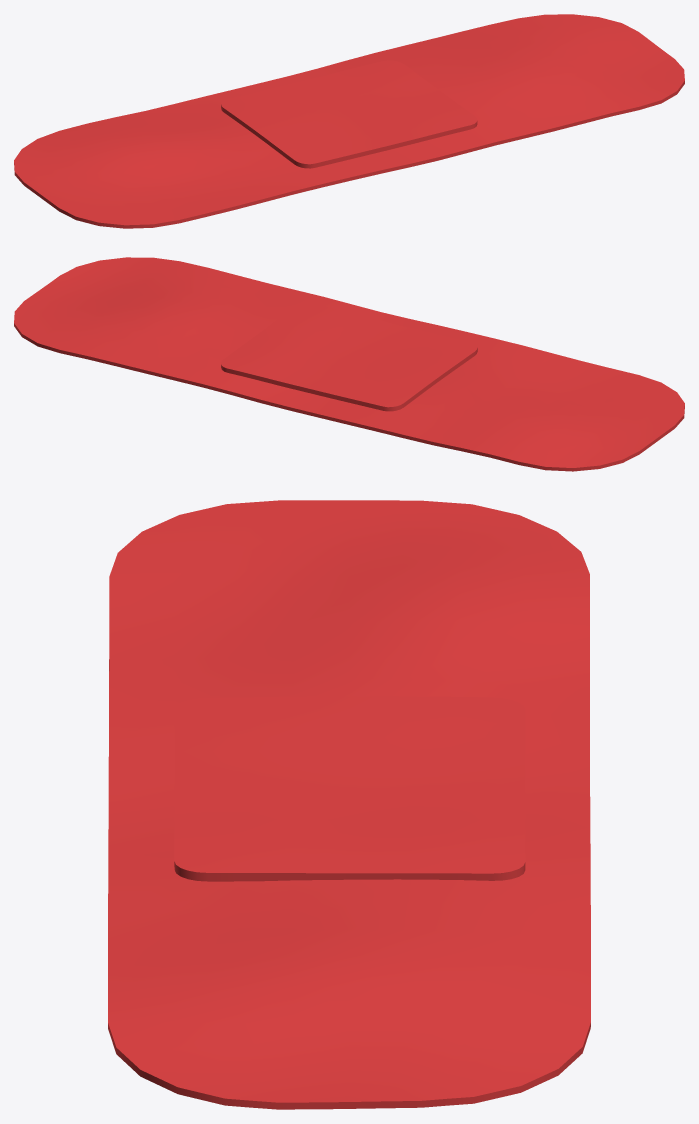
The model's file is plaster.fbx.
3 views of the same model, one above another, from view 1: azimuth 30°, elevation 25°; view 2: azimuth 150°, elevation 25°; view 3: azimuth 270°, elevation 25° (orthographic). The views are drawn at different scales.
Visible parts, largest first — view 1: perban.014, perban tengah.014; view 2: perban.014, perban tengah.014; view 3: perban.014, perban tengah.014.
Boxes of the visible parts, x1=… form: perban.014: x1=14, y1=14, x2=684, y2=228; perban tengah.014: x1=221, y1=60, x2=477, y2=168; perban.014: x1=14, y1=257, x2=684, y2=471; perban tengah.014: x1=221, y1=303, x2=477, y2=411; perban.014: x1=108, y1=500, x2=590, y2=1109; perban tengah.014: x1=174, y1=696, x2=525, y2=881.
Bounding box in the file's own units: 0.0559 × 0.00111 × 0.019.
